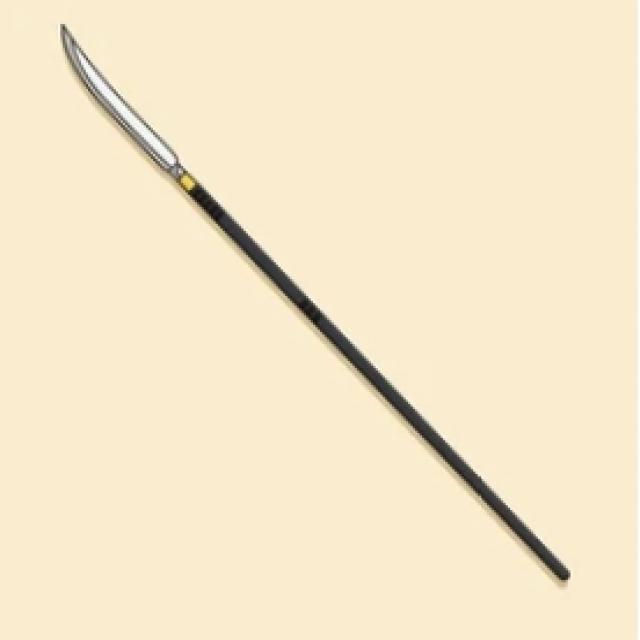spear: (25, 6, 578, 615)
